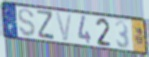2: (95, 17, 112, 48)
3: (114, 19, 130, 50)
4: (77, 14, 92, 46)
S: (17, 8, 37, 39)
V: (54, 12, 74, 43)
Z: (36, 9, 55, 42)
